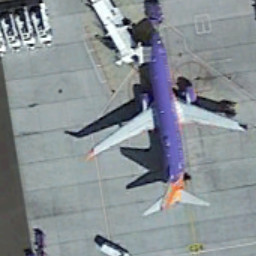Airplane: (75, 23, 252, 225)
